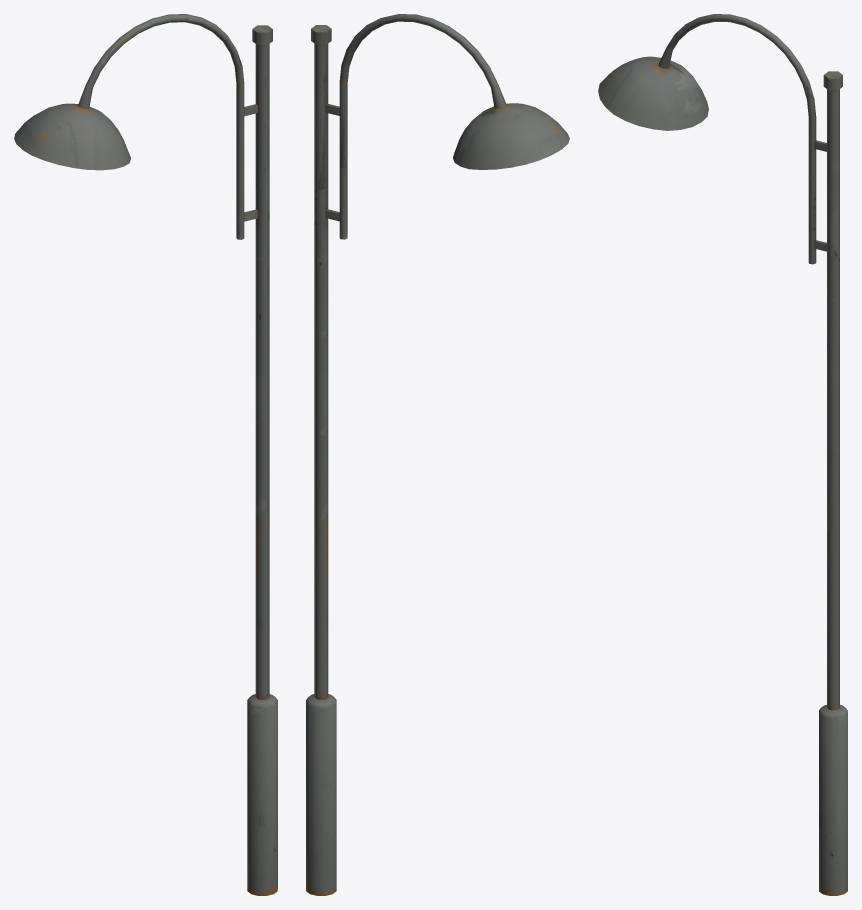
3 views of the same model, side by side, from view 1: azimuth 30°, elevation 25°; view 2: azimuth 150°, elevation 25°; view 3: azimuth 330°, elevation 25° (orthographic). The views are drawn at different scales.
Parts seen in each view (by area): view 1: body0_model0_lod0_mesh0; view 2: body0_model0_lod0_mesh0; view 3: body0_model0_lod0_mesh0.
Boxes of the visible parts, box(x1,y1,x2,y2) form: body0_model0_lod0_mesh0: box(14, 14, 277, 895); body0_model0_lod0_mesh0: box(306, 14, 569, 895); body0_model0_lod0_mesh0: box(598, 14, 847, 895).
Size of the model in its own units: 88.35 by 299 by 35.89.
Materials: 1 (1 with a texture image).
